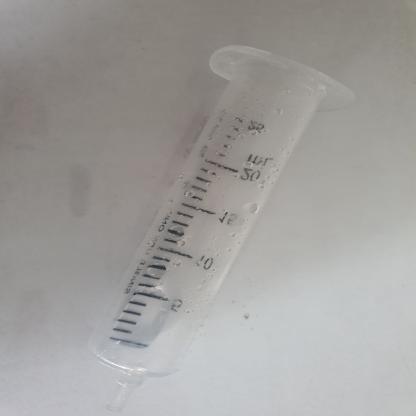wet: (73, 51, 384, 415)
